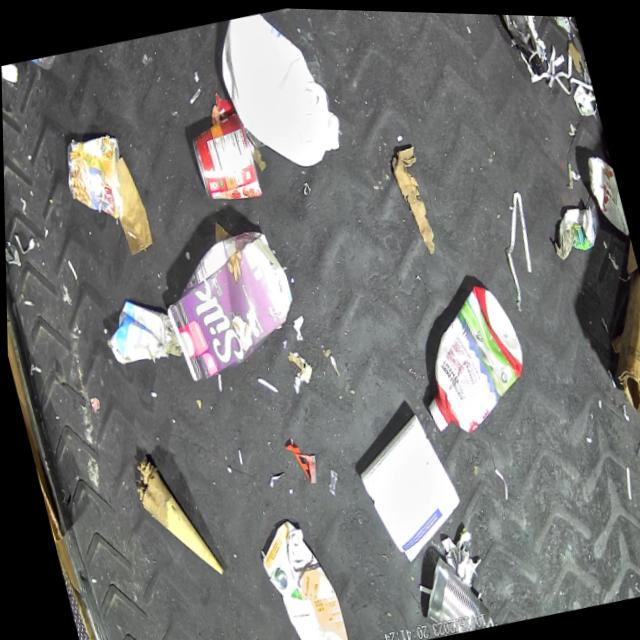can: (185, 108, 264, 210), (56, 130, 136, 229), (408, 544, 491, 638), (582, 148, 628, 237)
milk_jug: (207, 5, 348, 180)
non_white_jug: (149, 217, 305, 386), (400, 274, 537, 439), (251, 508, 351, 640)
